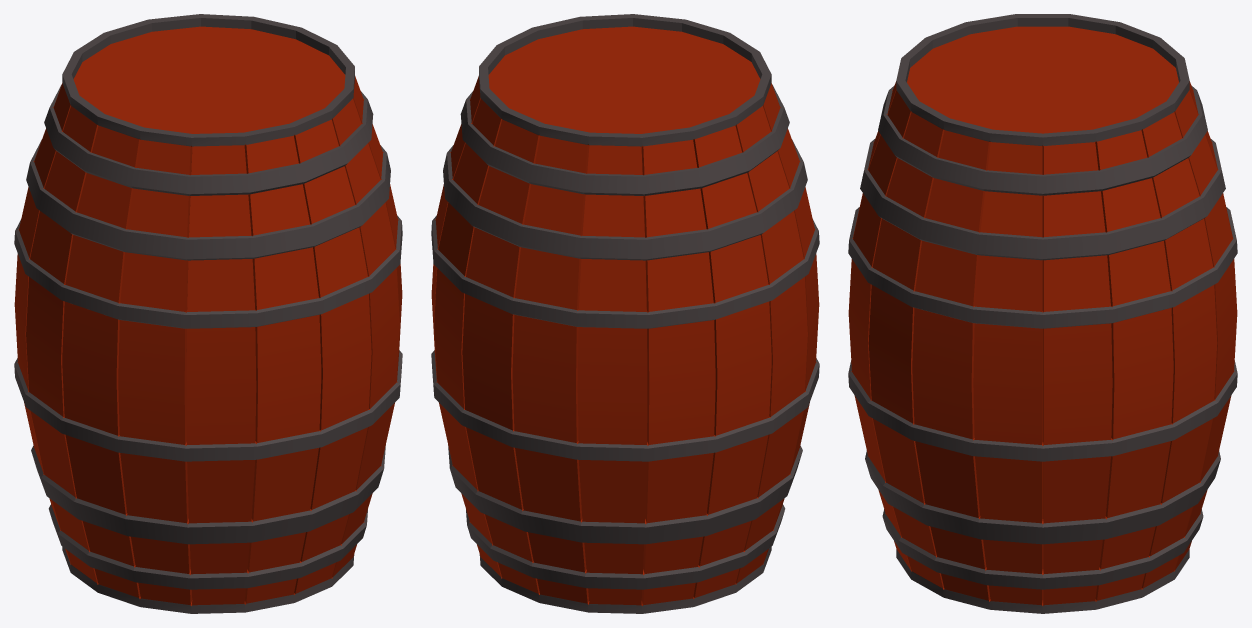
File: WoodenBarrel.FBX
The picture shows the model from 3 angles, left to right: view 1: azimuth 30°, elevation 25°; view 2: azimuth 150°, elevation 25°; view 3: azimuth 270°, elevation 25°; orthographic projection.
Parts seen in each view (by area): view 1: Cylinder012; view 2: Cylinder012; view 3: Cylinder012.
Part boxes in pixels (left/top/right/bottom): Cylinder012: left=14, top=14, right=402, bottom=613; Cylinder012: left=431, top=14, right=819, bottom=613; Cylinder012: left=848, top=14, right=1237, bottom=613.
Size of the model in its own units: 87.43 by 119 by 87.81.
